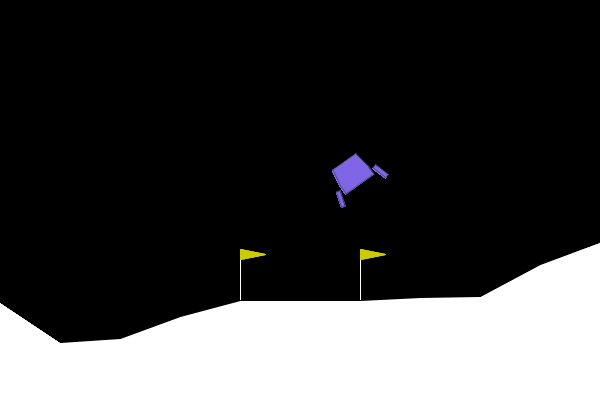lander: (318, 143, 390, 210)
